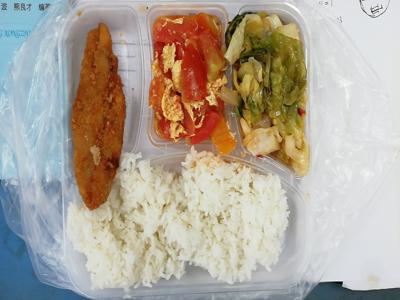jdxhs: (147, 8, 237, 159)
rice: (71, 163, 306, 288)
